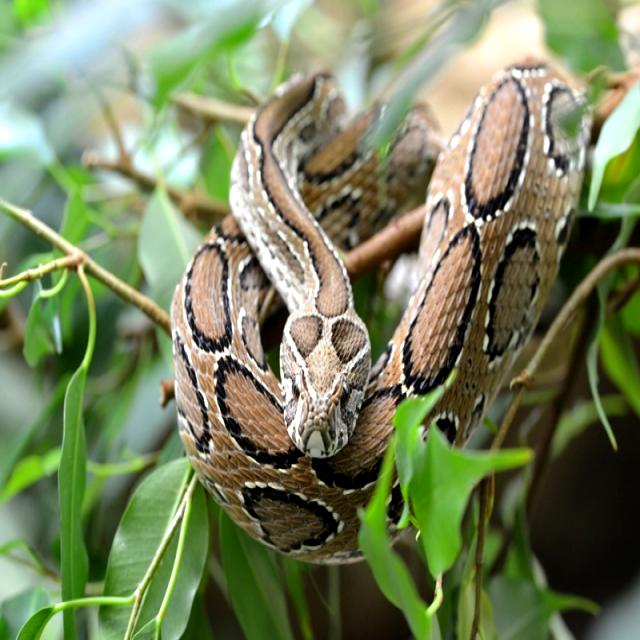Daboia siamensis: (172, 62, 589, 562)
snake: (172, 62, 589, 562)
